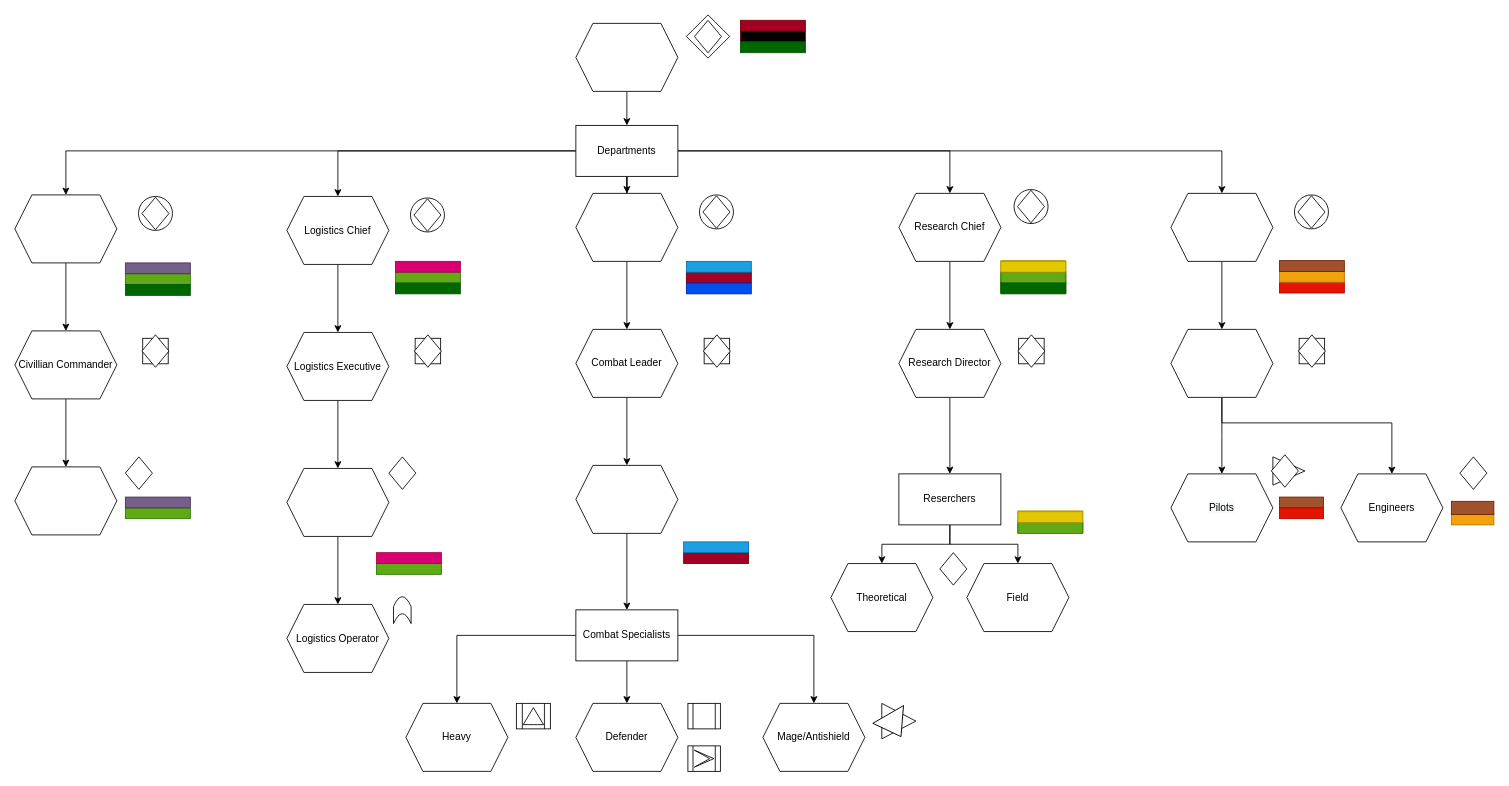
Some shapes in this 1509 by 786 pixel diagram are drawn without their labels. The shapes that lost their labels are listed below. From the top down, each one's centre as x and y in pixels, then its label:
At [626,57]: "High Command (Fallenstar)".
At [65,228]: "Civillan Chief".
At [626,227]: "Combat Chief".
At [1221,227]: "Engineering Chief".
At [1221,363]: "Engineering Director".
At [65,500]: "Civillian Iterator".
At [337,502]: "Logistics Overseer".
At [626,499]: "Combat Superior".
